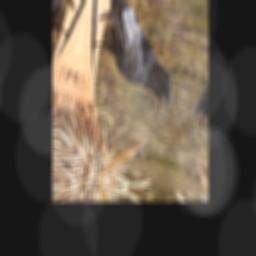Crow: (82, 0, 193, 114)
